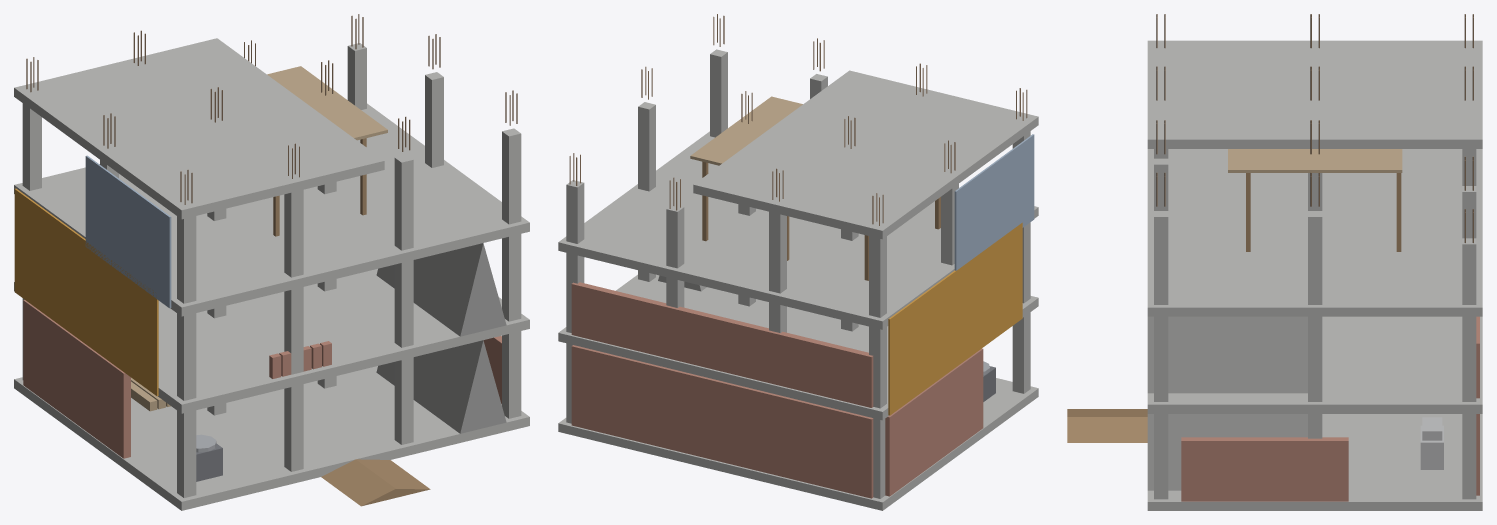
File: Insaat_Bina.glb
3 renders of one model, left to right at view 1: azimuth 30°, elevation 25°; view 2: azimuth 150°, elevation 25°; view 3: azimuth 270°, elevation 25°, orthographic. The views are drawn at different scales.
Parts seen in each view (by area): view 1: Insaat_Bina; view 2: Insaat_Bina; view 3: Insaat_Bina.
Part boxes in pixels (<box>): Insaat_Bina: <box>14,14,529,510</box>; Insaat_Bina: <box>558,14,1038,510</box>; Insaat_Bina: <box>1067,14,1482,510</box>.
Bounding box in the file's own units: 12.13 × 10.9 × 12.4.
